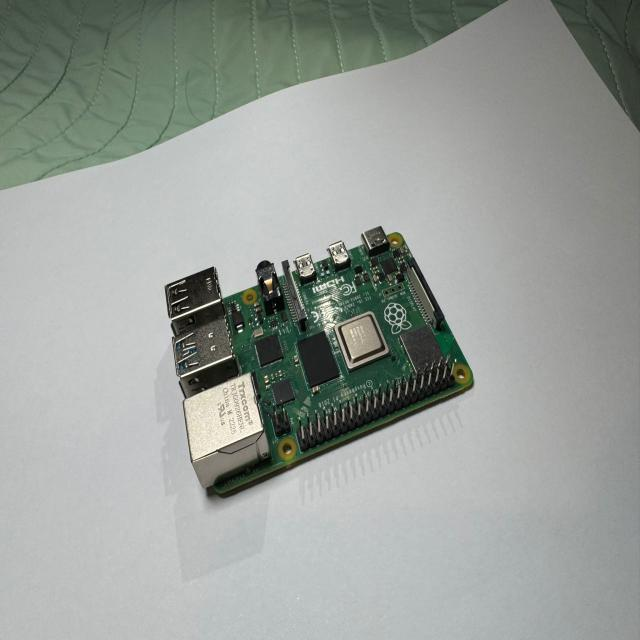CPU: (337, 311, 391, 374)
Ethernet: (181, 367, 275, 495)
GPIO: (295, 352, 460, 454)
RAM: (298, 328, 342, 392)
Raspberry: (163, 228, 475, 504)
micro-hdmi: (325, 234, 350, 271), (295, 252, 320, 285)
